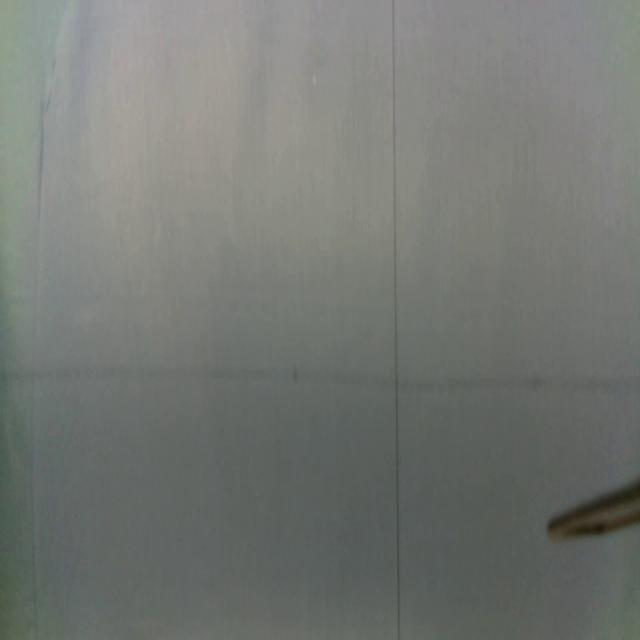color bleeding: (1, 357, 640, 406)
crease: (28, 99, 46, 640), (390, 0, 401, 640)
